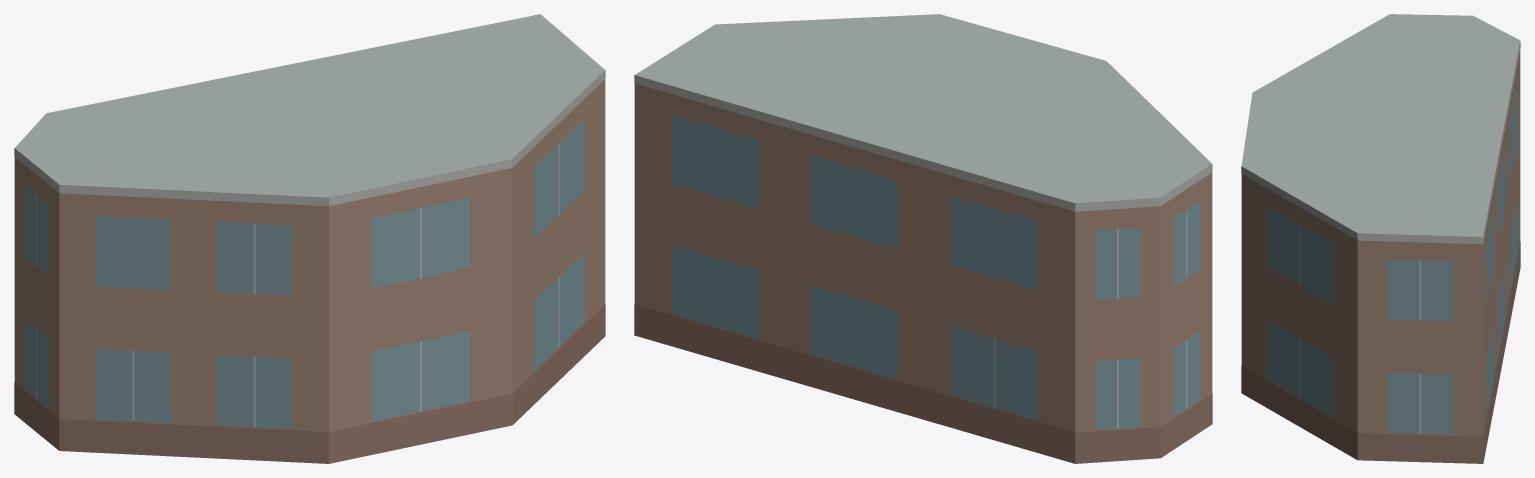
Rendered from survey-upis-32628944.glb.
The picture shows the model from 3 angles, left to right: view 1: azimuth 30°, elevation 25°; view 2: azimuth 150°, elevation 25°; view 3: azimuth 270°, elevation 25°; orthographic projection. The views are drawn at different scales.
Visible parts, largest first — view 1: survey-upis-32628944.tmp; view 2: survey-upis-32628944.tmp; view 3: survey-upis-32628944.tmp.
Part boxes in pixels (left/top/right/bottom): survey-upis-32628944.tmp: left=14, top=14, right=605, bottom=463; survey-upis-32628944.tmp: left=634, top=14, right=1212, bottom=463; survey-upis-32628944.tmp: left=1241, top=14, right=1520, bottom=463.
Size of the model in its own units: 16.02 by 7.6 by 8.48.
